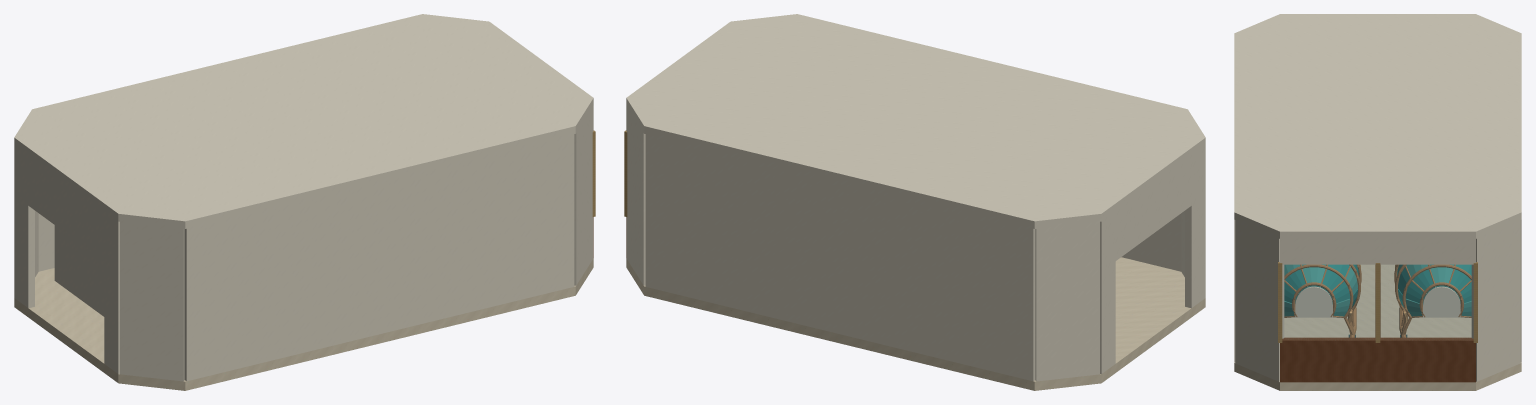
The model's file is D04_STARBOARD_FORWARD_HOME_985_r001.glb.
3 views of the same model, side by side, from view 1: azimuth 30°, elevation 25°; view 2: azimuth 150°, elevation 25°; view 3: azimuth 270°, elevation 25° (orthographic). The views are drawn at different scales.
Parts seen in each view (by area): view 1: D04SH985_Roof, D04SH985_Shell_3, D04SH985_Shell_4, D04SH985_Floor, D04SH985_EntryHeader, D04SH985_Shell_2, D04SH985_EntryWall_0, D04SH985_BathDogleg, D04SH985_EntryWall_1, D04SH985_Shell_7; view 2: D04SH985_Roof, D04SH985_Shell_7, D04SH985_Floor, D04SH985_Shell_6, D04SH985_EntryHeader, D04SH985_Shell_0, D04SH985_EntryWall_1, D04SH985_EntryWall_0, D04SH985_Shell_3; view 3: D04SH985_Roof, D04SH985_GardenGlass, D04SH985_GardenDado, D04SH985_Floor, D04SH985_Shell_0, D04SH985_Shell_2, D04SH985_GardenHead, D04SH985_ReservedCocoon_1__Rear ivory acoustic diffuser, D04SH985_ReservedCocoon_2__Rear ivory acoustic diffuser, D04SH985_WindowMullion_1, D04SH985_ReservedCocoon_2__Exposed ash hood rib 04, D04SH985_WindowMullion_0 (+14 smaller).
Part boxes in pixels (box(x1,y1,x2,y2)): D04SH985_Roof: box(14, 14, 593, 228); D04SH985_Shell_3: box(184, 134, 574, 381); D04SH985_Shell_4: box(120, 221, 184, 381); D04SH985_Floor: box(14, 258, 593, 390); D04SH985_EntryHeader: box(28, 156, 104, 260); D04SH985_Shell_2: box(574, 106, 593, 285); D04SH985_EntryWall_0: box(14, 145, 34, 308); D04SH985_BathDogleg: box(54, 225, 104, 316); D04SH985_EntryWall_1: box(104, 211, 119, 373); D04SH985_Shell_7: box(38, 213, 54, 271); D04SH985_Roof: box(626, 14, 1205, 228); D04SH985_Shell_7: box(645, 134, 1035, 381); D04SH985_Floor: box(626, 257, 1205, 390); D04SH985_Shell_6: box(1035, 221, 1099, 381); D04SH985_EntryHeader: box(1115, 156, 1191, 260); D04SH985_Shell_0: box(626, 106, 645, 285); D04SH985_EntryWall_1: box(1185, 145, 1205, 308); D04SH985_EntryWall_0: box(1100, 211, 1115, 373); D04SH985_Shell_3: box(1121, 213, 1181, 271); D04SH985_Roof: box(1234, 14, 1521, 238); D04SH985_GardenGlass: box(1283, 265, 1471, 339); D04SH985_GardenDado: box(1280, 337, 1475, 382); D04SH985_Floor: box(1234, 264, 1521, 390); D04SH985_Shell_0: box(1471, 220, 1520, 381); D04SH985_Shell_2: box(1235, 220, 1284, 381); D04SH985_GardenHead: box(1280, 239, 1475, 264); D04SH985_ReservedCocoon_1__Rear ivory acoustic diffuser: box(1423, 286, 1460, 317); D04SH985_ReservedCocoon_2__Rear ivory acoustic diffuser: box(1295, 286, 1332, 317); D04SH985_WindowMullion_1: box(1375, 263, 1380, 342); D04SH985_ReservedCocoon_2__Exposed ash hood rib 04: box(1284, 264, 1353, 318); D04SH985_WindowMullion_0: box(1473, 262, 1477, 342).
Size of the model in its own units: 12.92 by 4.4 by 7.2.
Materials: 45 (21 with a texture image).
